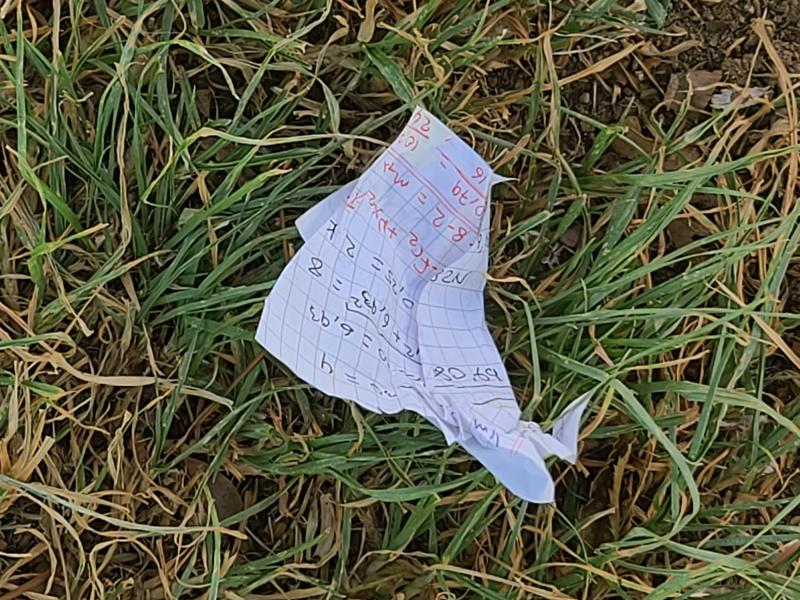papel: (254, 109, 577, 505)
